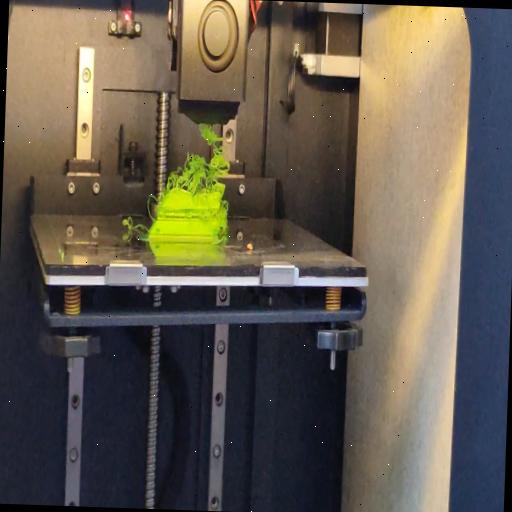spaghetti: (164, 119, 233, 194), (121, 216, 149, 234), (147, 190, 162, 222), (218, 232, 229, 243)
